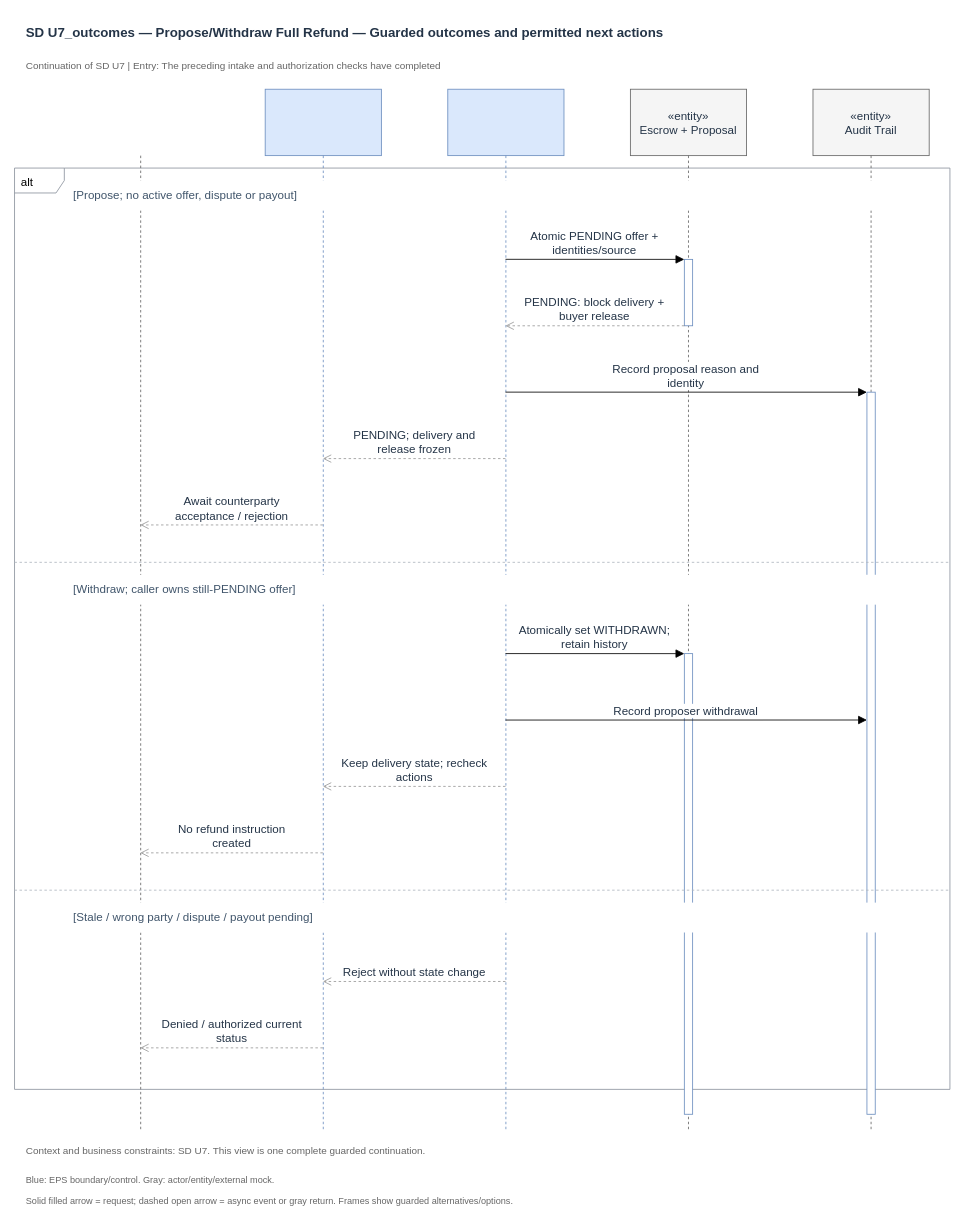
The diagram is 969 pixels wide and 1227 high, and some of its shapes have lost their labels. Each missing label, with the box of its shape:
Buyer / Seller: (82, 88, 199, 1131)
«boundary» Escrow UI: (264, 88, 381, 1131)
«control» Escrow Control: (447, 88, 564, 1131)
